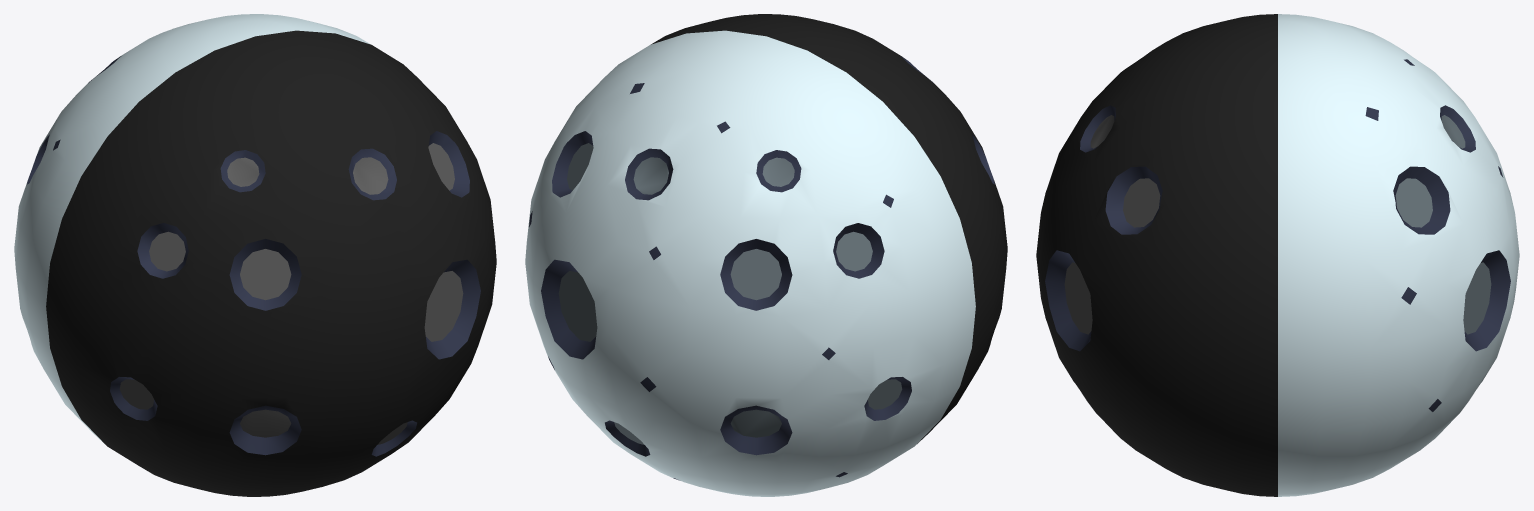
The model's file is Moon2.glb.
3 views of the same model, side by side, from view 1: azimuth 30°, elevation 25°; view 2: azimuth 150°, elevation 25°; view 3: azimuth 270°, elevation 25° (orthographic).
Parts seen in each view (by area): view 1: Sphere; view 2: Sphere; view 3: Sphere.
Boxes of the visible parts, x1,y1,x2,y2 form: Sphere: (14, 14, 496, 496); Sphere: (525, 14, 1007, 496); Sphere: (1036, 14, 1519, 496).
Bounding box in the file's own units: 2 × 2 × 2.
